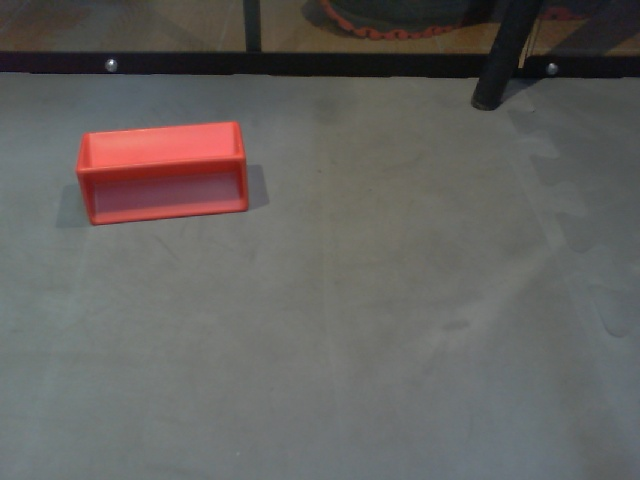RedSample: (74, 117, 253, 227)
